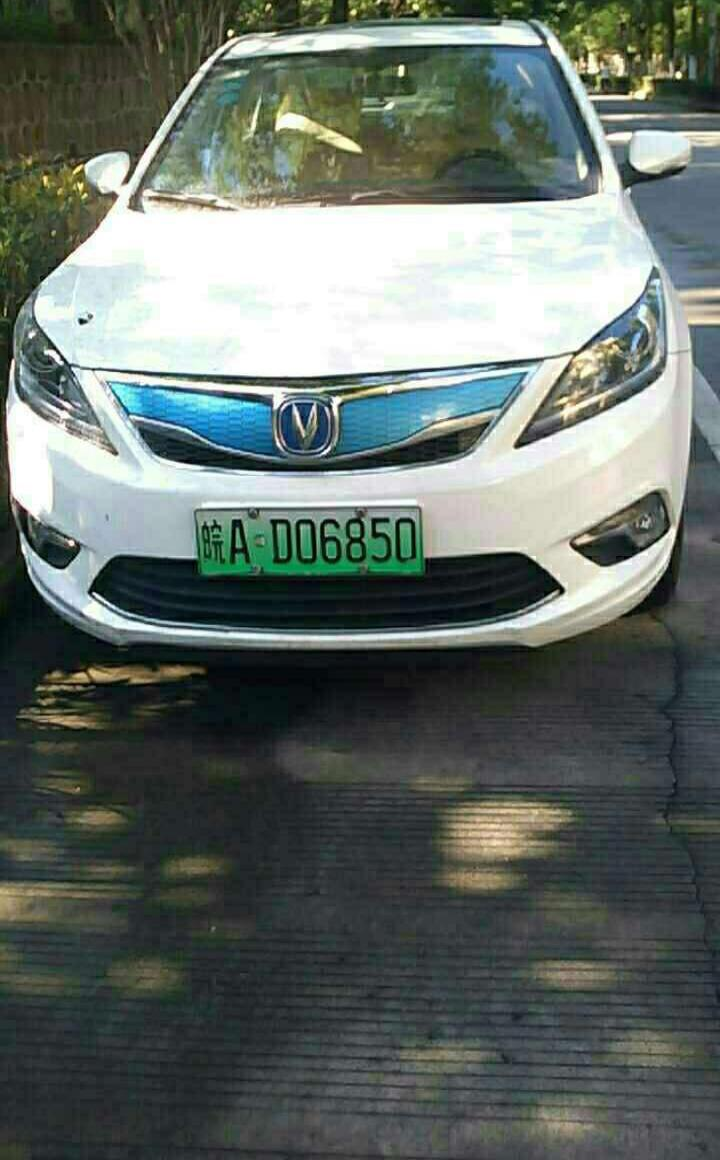car_id: (191, 505, 424, 575)
